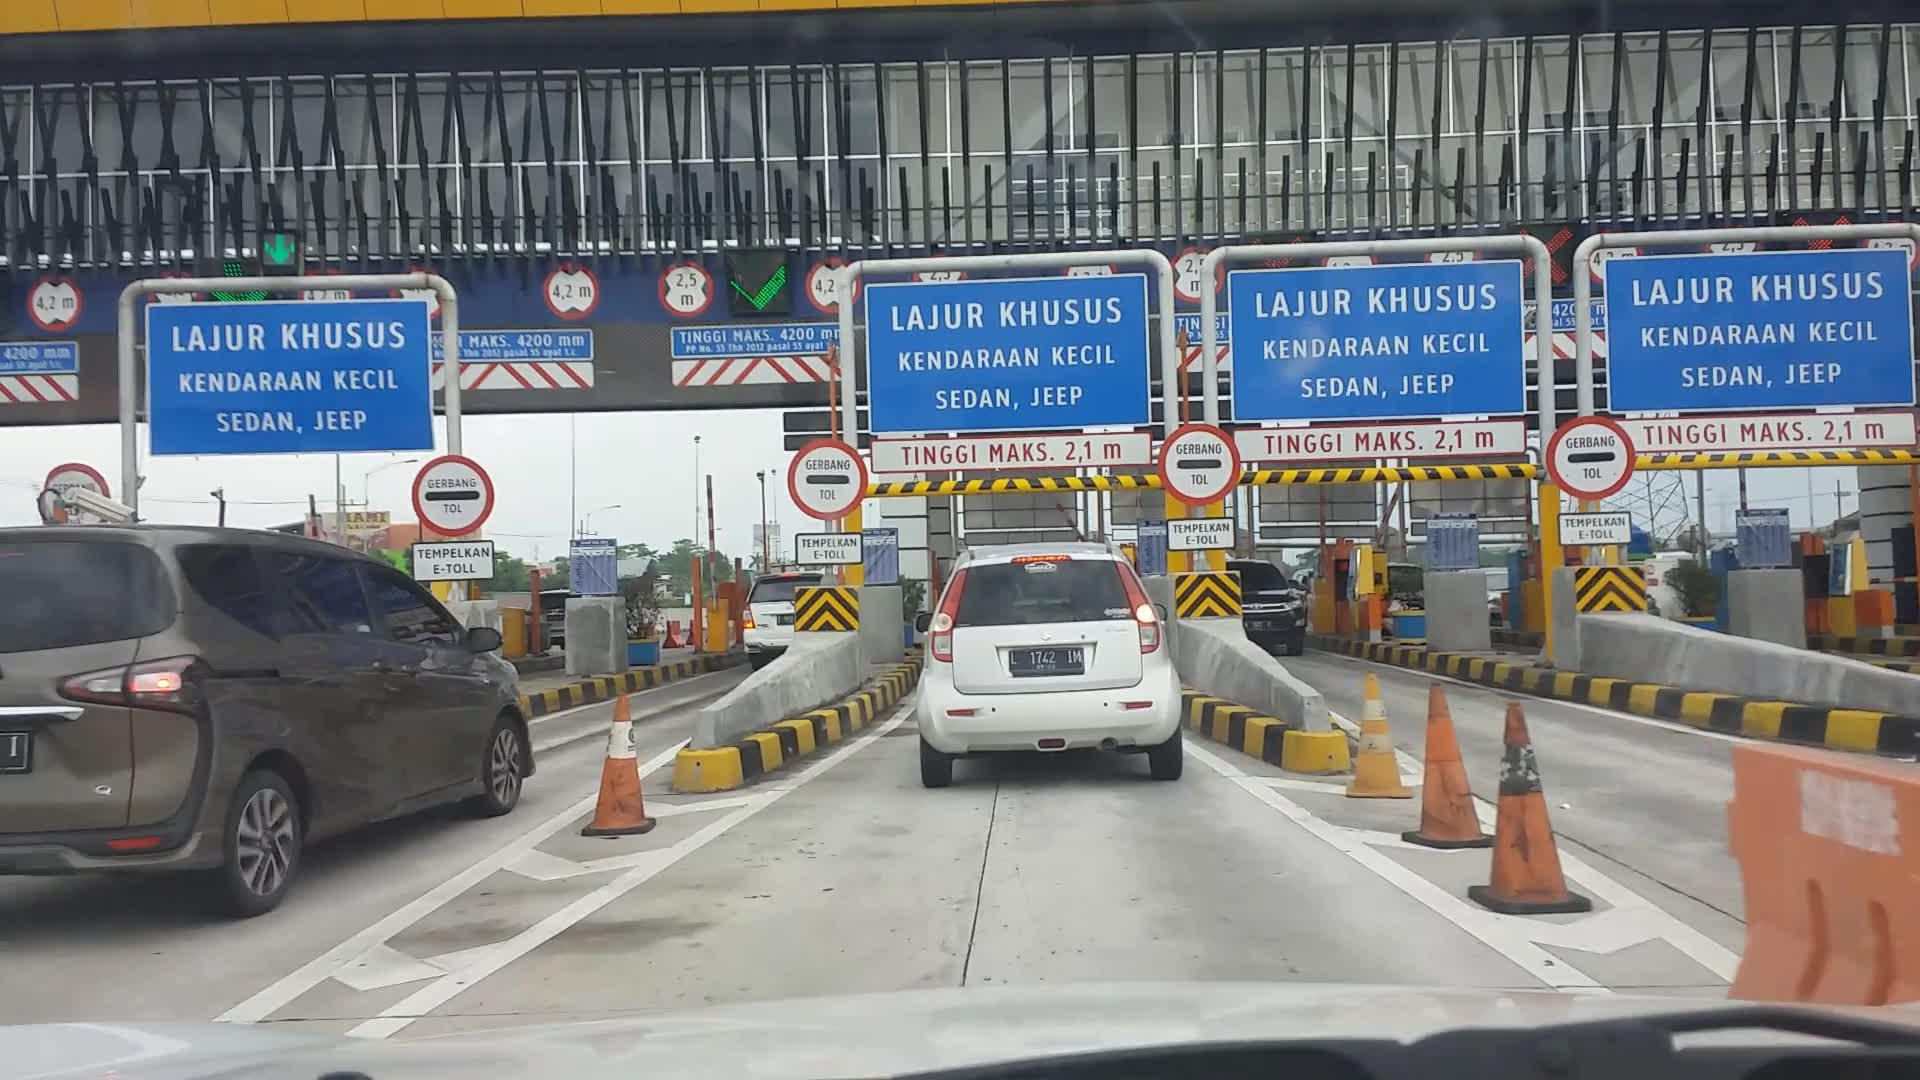plate_positive: (1009, 647, 1087, 675)
